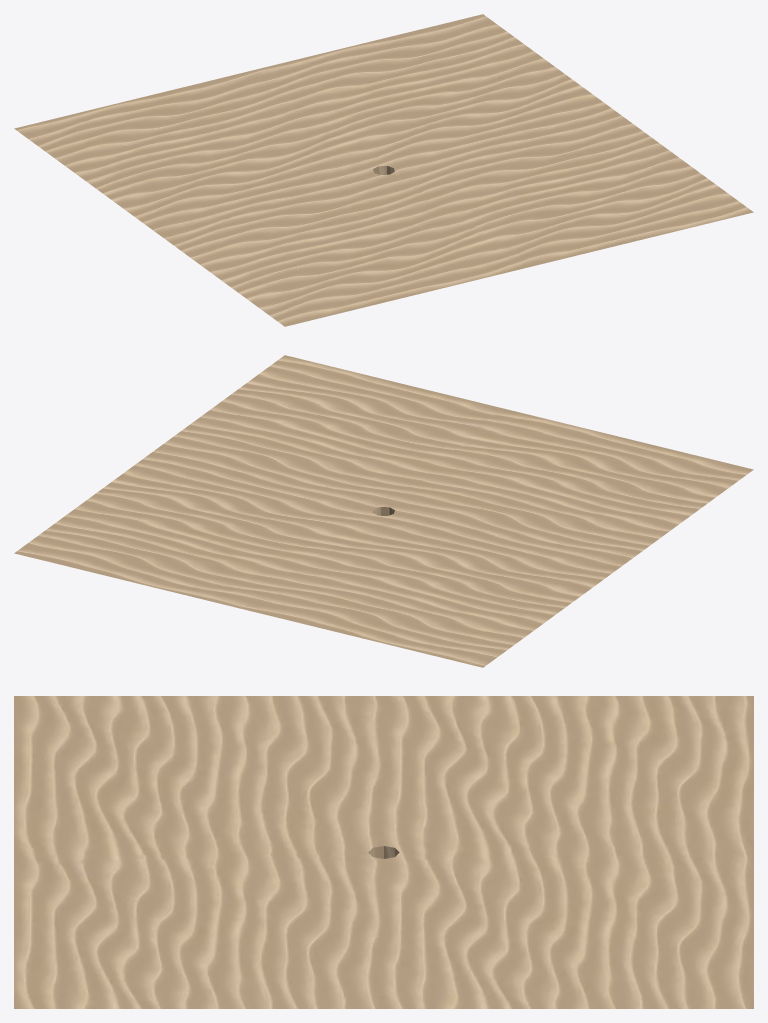
Rendered from Floor_Marbal_Play.fbx.
The picture shows the model from 3 angles, top to bottom: view 1: azimuth 30°, elevation 25°; view 2: azimuth 150°, elevation 25°; view 3: azimuth 270°, elevation 25°; orthographic projection. The views are drawn at different scales.
Parts seen in each view (by area): view 1: Floor_Marbal_Play; view 2: Floor_Marbal_Play; view 3: Floor_Marbal_Play.
Boxes of the visible parts, <box> form: Floor_Marbal_Play: <box>14,14,753,326</box>; Floor_Marbal_Play: <box>14,355,753,667</box>; Floor_Marbal_Play: <box>14,696,753,1008</box>.
Size of the model in its own units: 300 by 10 by 300.
